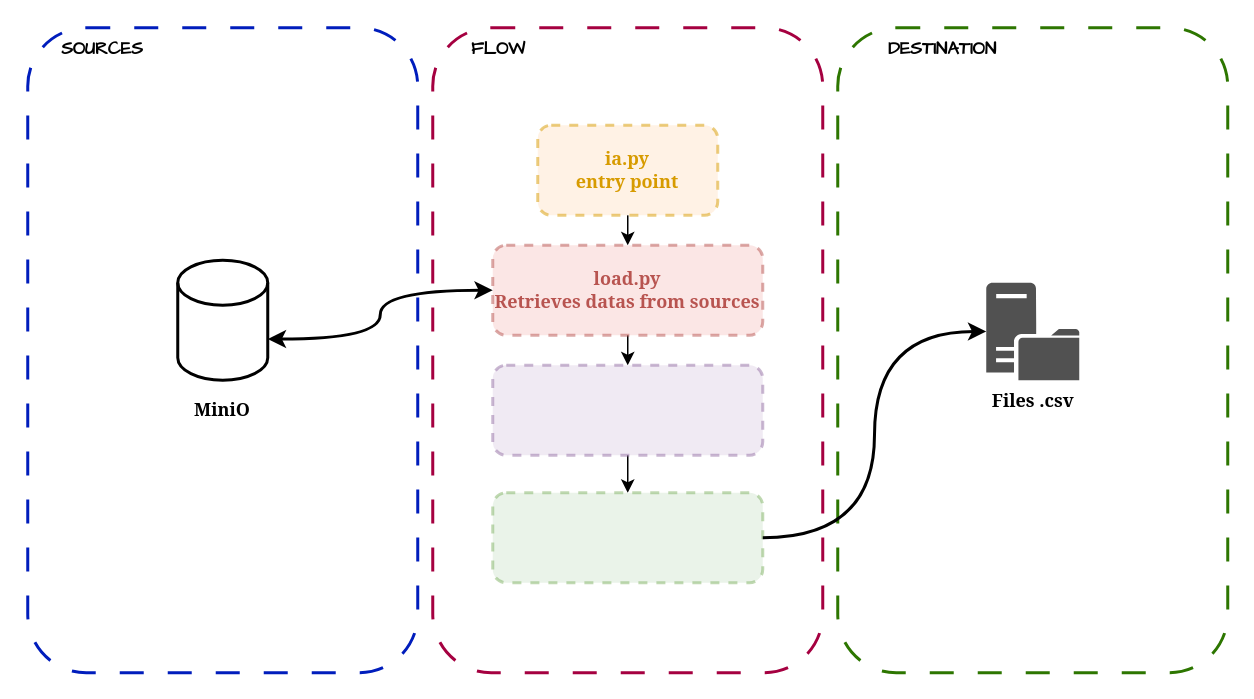
The diagram is 1254 pixels wide and 699 high, and some of its shapes have lost their labels. The shapes that lost their labels are listed below. From the top down, each one's centre as x and y in pixels, then its label:
At point 627,409: "data_quality.py Extract data quality".
At point 627,537: "[ia]prediction/*.py Prediction ia".
